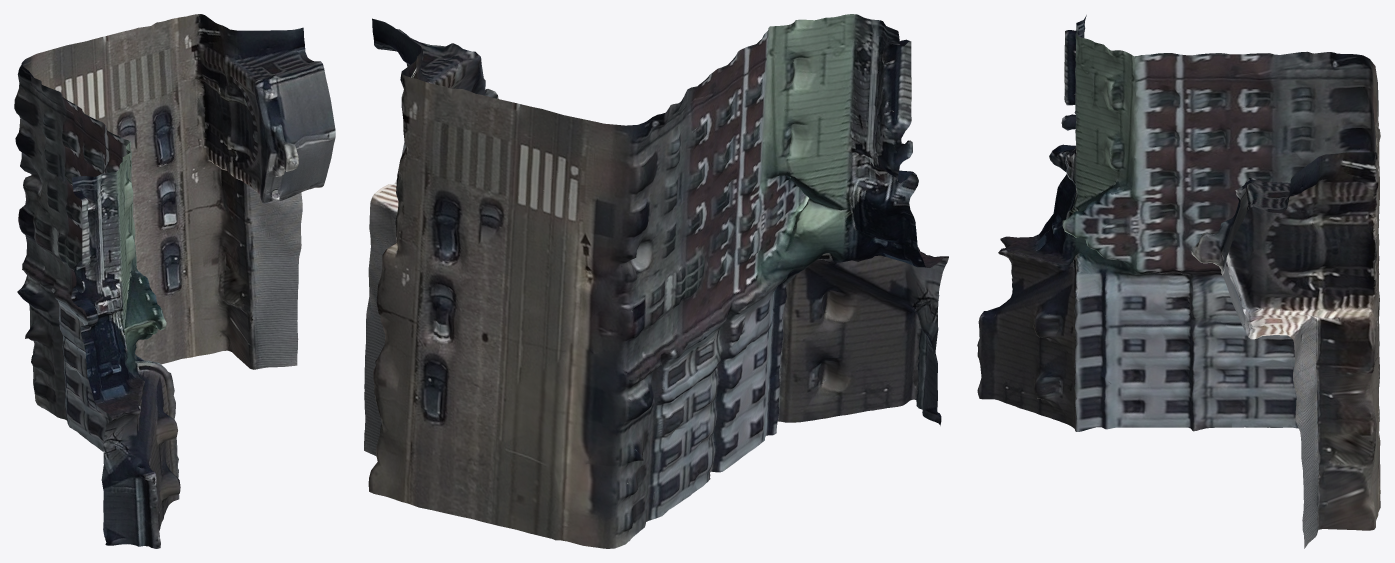
Rendered from Tile_+029_+018_L21_0003100.fbx.
3 views of the same model, side by side, from view 1: azimuth 30°, elevation 25°; view 2: azimuth 150°, elevation 25°; view 3: azimuth 270°, elevation 25° (orthographic). The views are drawn at different scales.
Visible parts, largest first — view 1: DefaultName; view 2: DefaultName; view 3: DefaultName.
Part boxes in pixels (box(x1,y1,x2,y2)): DefaultName: box(14, 14, 335, 548); DefaultName: box(364, 14, 948, 548); DefaultName: box(977, 15, 1380, 548).
Bounding box in the file's own units: 31.38 × 31.38 × 31.44.
Materials: 1 (1 with a texture image).
